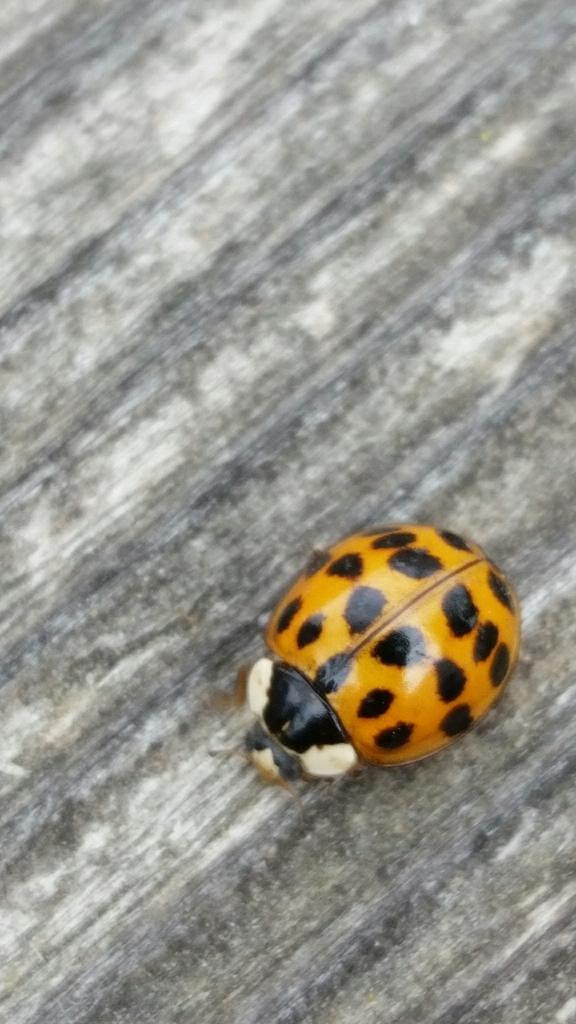ladybug: (229, 514, 534, 799)
